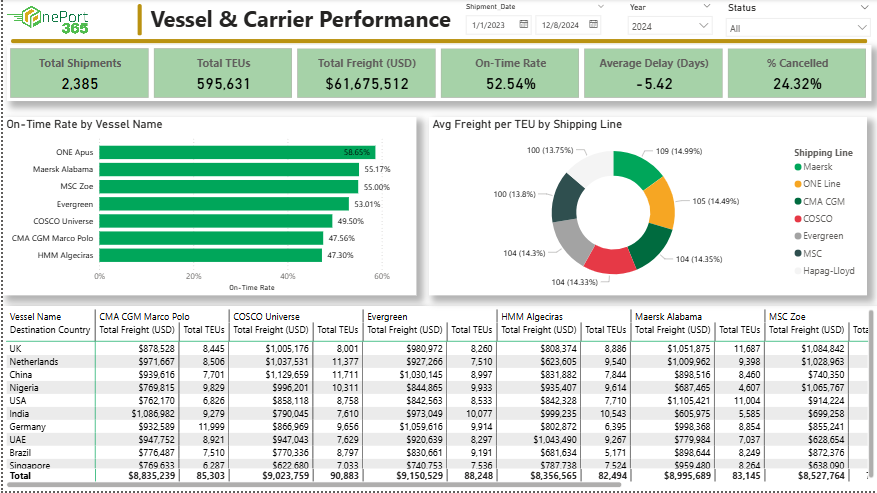

The page's visual inventory and layout, read from the dashboard file:
{"tool":"powerbi","page":{"name":"Vessel & Carrier Performance","canvas":[1280,720],"ordinal":3},"visuals":[{"type":"textbox","box":[209.9,1.5,485.6,61.5],"z":0,"group":"g1"},{"type":"cardVisual","title":"Total Shipments","fields":{"Data":["_Measures.Total Shipments","_Measures.Total TEUs","_Measures.Total Freight (USD)","_Measures.On-Time Rate","_Measures.Average Delay (Days)","_Measures.% Cancelled"]},"box":[6,67.4,1265,82.4],"z":0},{"type":"slicer","fields":{"Values":["Shipments.Year"]},"box":[903.8,0,143.9,60],"z":1000},{"type":"shape","box":[95.9,7.5,206.8,46.5],"z":1000,"group":"g1"},{"type":"shape","box":[11.8,45.8,1253.4,32.5],"z":2000},{"type":"slicer","fields":{"Values":["Shipments.Shipment_Date"]},"box":[664,0,228.4,60],"z":3000},{"type":"image","box":[0,0,133.9,60.5],"z":4000},{"type":"slicer","fields":{"Values":["Shipments.Status"]},"box":[1047.7,0,232.3,60],"z":5000},{"type":"clusteredBarChart","fields":{"Category":["Shipments.Vessel_Name"],"Y":["_Measures.On-Time Rate"]},"box":[0,172.8,604.8,260.6],"z":6000},{"type":"clusteredBarChart","fields":{"Category":["Shipments.Commodity"],"Y":["_Measures.Total TEUs"]},"box":[5.8,449.3,604.8,270.7],"z":7000},{"type":"pivotTable","fields":{"Values":["_Measures.Total Freight (USD)","_Measures.Total TEUs"],"Columns":["Shipments.Vessel_Name"],"Rows":["Shipments.Destination_Country"]},"box":[0,449.3,1280.2,270.7],"z":8000},{"type":"donutChart","fields":{"Category":["Shipments.Shipping_Line"],"Y":["_Measures.Avg Freight per TEU"]},"box":[623.5,172.4,641.5,260.8],"z":9000},{"type":"group","id":"g1","title":"Group 1","box":[95.9,1.5,599.6,61.5],"z":10000}]}

Visuals, with their boxes in screenshot pixels (x1, y1, x2, y2), scaled from the page's 1280x720 canvas onto the 877x493 screenshot:
textbox: bbox=(144, 1, 477, 43)
"Total Shipments" cardVisual: bbox=(4, 46, 871, 103)
slicer - Shipments.Year: bbox=(619, 0, 718, 41)
shape: bbox=(66, 5, 207, 37)
shape: bbox=(8, 31, 867, 54)
slicer - Shipments.Shipment_Date: bbox=(455, 0, 611, 41)
image: bbox=(0, 0, 92, 41)
slicer - Shipments.Status: bbox=(718, 0, 876, 41)
clusteredBarChart - Shipments.Vessel_Name x _Measures.On-Time Rate: bbox=(0, 118, 414, 297)
clusteredBarChart - Shipments.Commodity x _Measures.Total TEUs: bbox=(4, 308, 418, 492)
pivotTable - _Measures.Total Freight (USD) x _Measures.Total TEUs: bbox=(0, 308, 876, 492)
donutChart - Shipments.Shipping_Line x _Measures.Avg Freight per TEU: bbox=(427, 118, 867, 297)
"Group 1" group: bbox=(66, 1, 477, 43)
